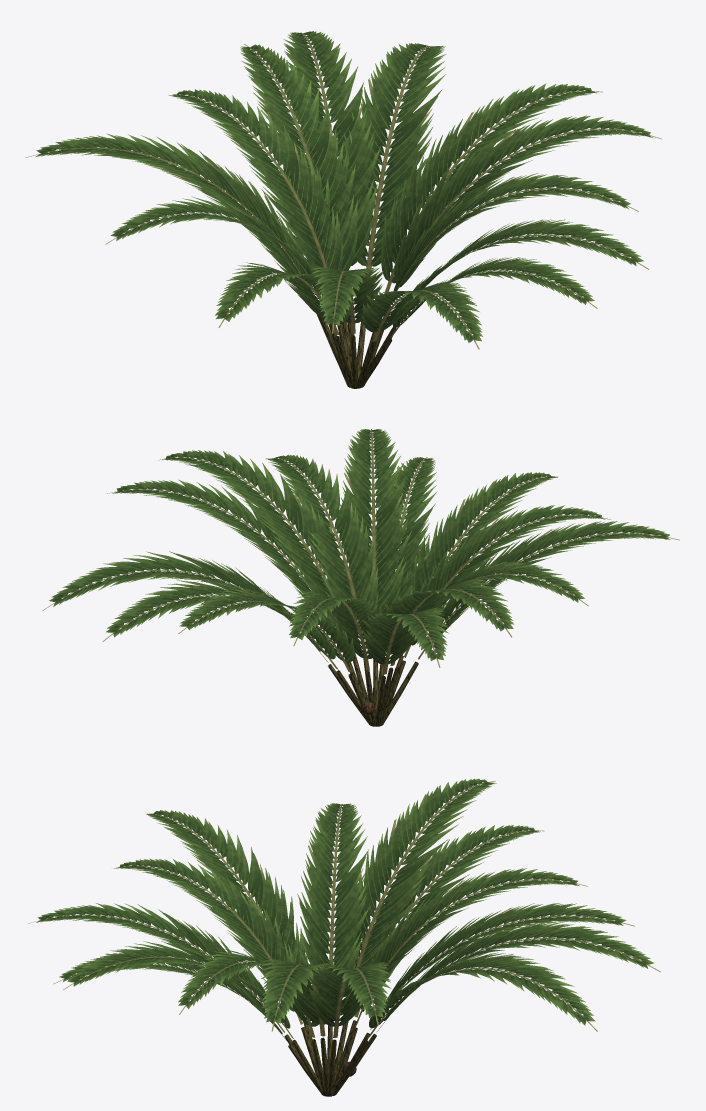
The model's file is golpata_b.glb.
3 views of the same model, one above another, from view 1: azimuth 30°, elevation 25°; view 2: azimuth 150°, elevation 25°; view 3: azimuth 270°, elevation 25° (orthographic). The views are drawn at different scales.
Visible parts, largest first — view 1: leaves, wood; view 2: leaves, wood; view 3: leaves, wood.
Part boxes in pixels (x1,y1,x2,y2): leaves: (25, 31, 661, 349); wood: (317, 301, 396, 388); leaves: (42, 429, 679, 674); wood: (328, 652, 418, 726); leaves: (28, 778, 660, 1042); wood: (284, 1019, 376, 1096).
Bounding box in the file's own units: 13.64 × 5.56 × 15.17.
2 materials, 2 textured.
